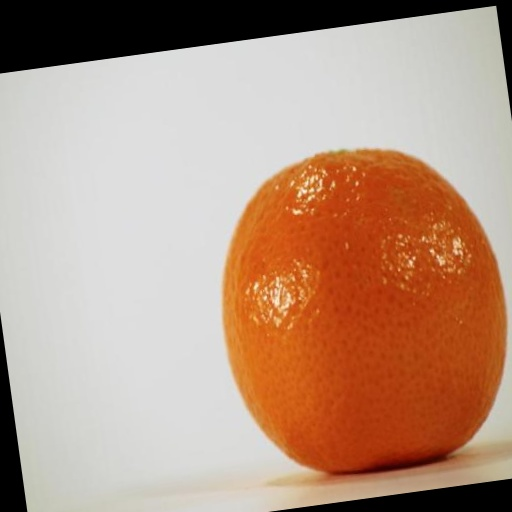fruit: (222, 150, 506, 472)
